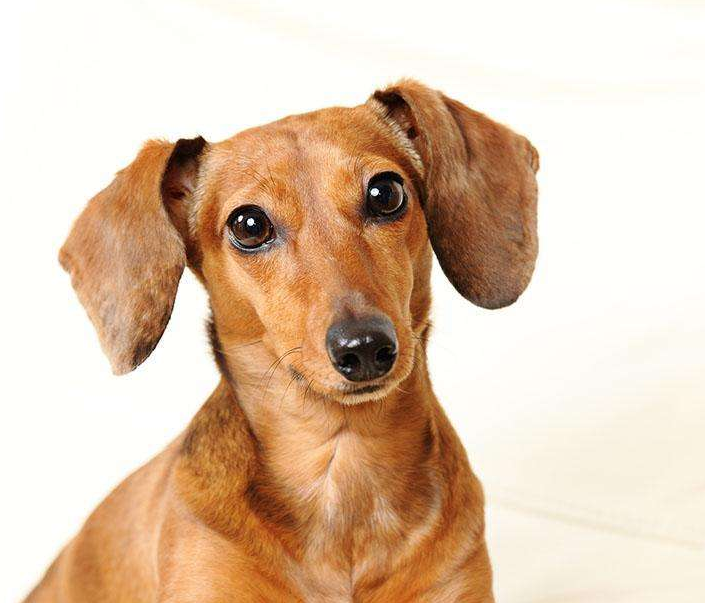nose: (313, 309, 419, 387)
